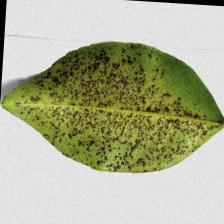canker: (74, 74, 162, 156)
